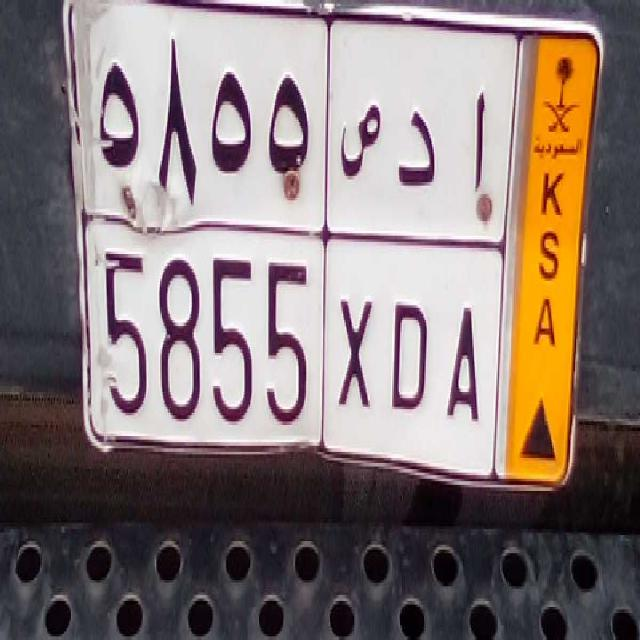license_plate: (81, 214, 494, 470)
